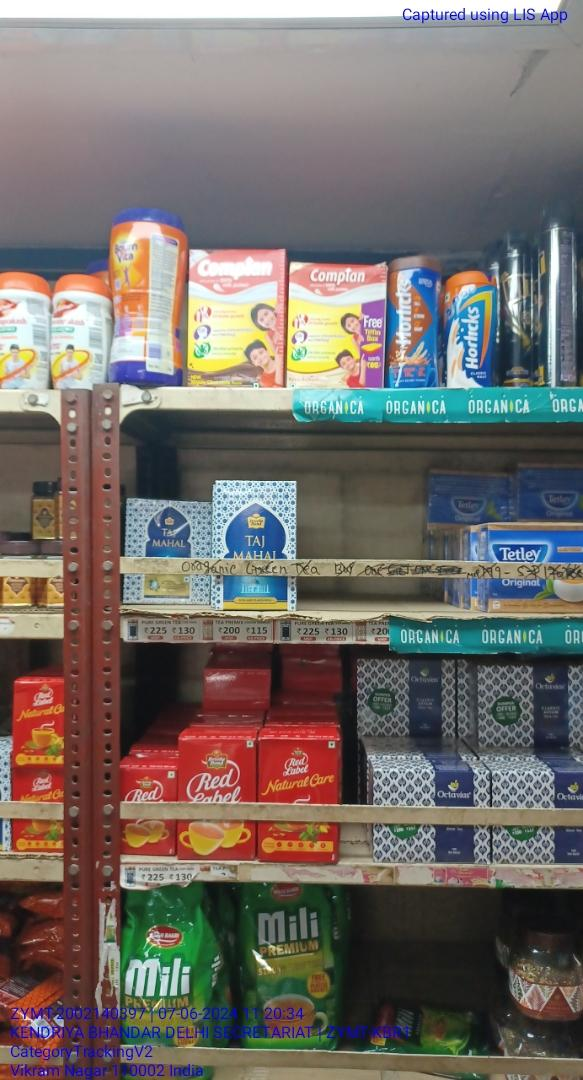HORLICK_CLASSIC_MALT_500_G_JAR: (440, 268, 496, 385)
